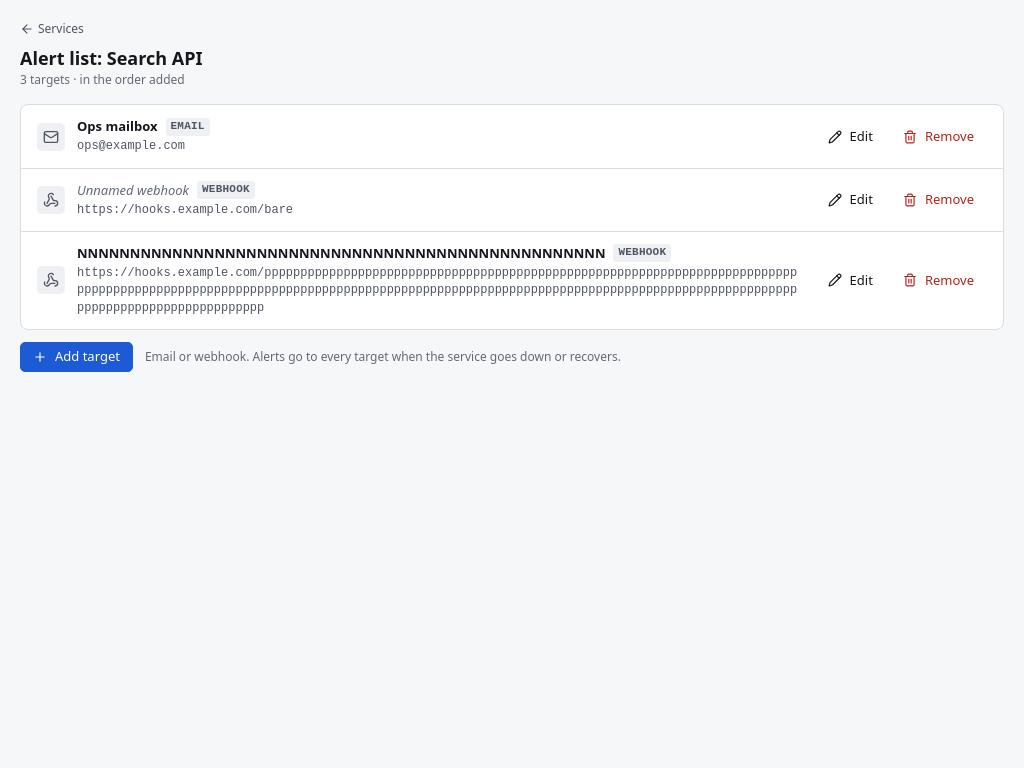
removing a target › after a failure › a 403 csrf_failed restores the row, keeps every row, toasts and focuses its Remove button
Check: the list named "Notification targets" is shown, box [20,104,1004,330]
Click the button with aria-label "Remove Ops mailbox".
click(938, 136)  # box [890,122,987,152]
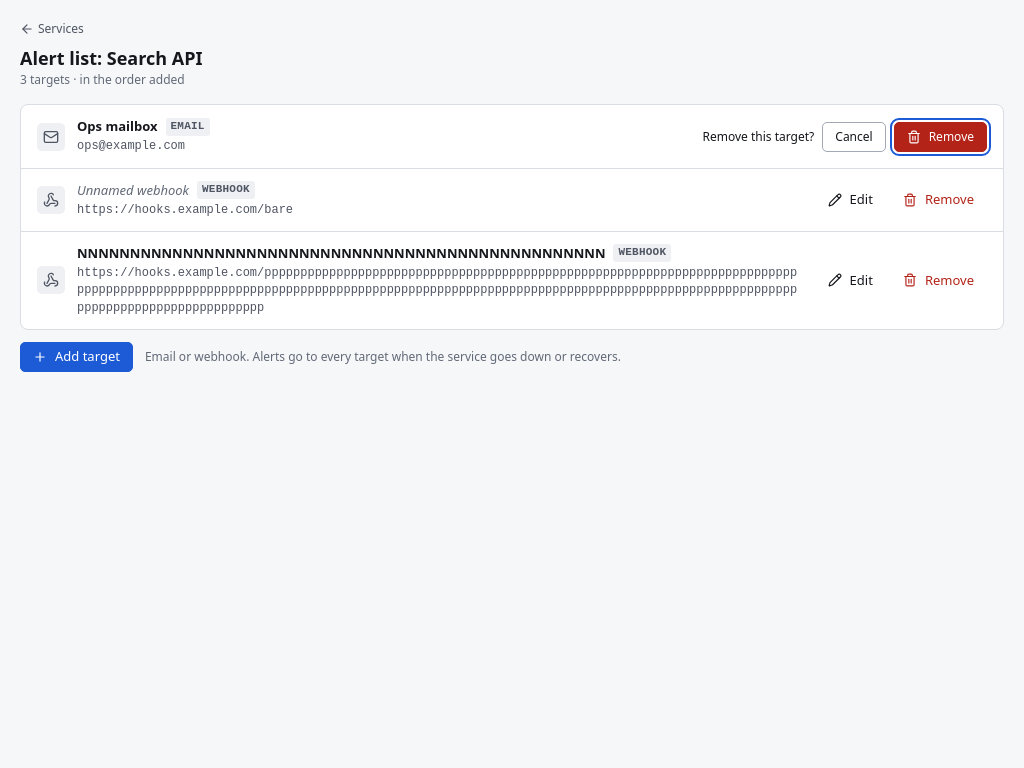
Click the button "Remove" in the row of "Remove this target?".
click(940, 136)  # box [894,122,987,152]
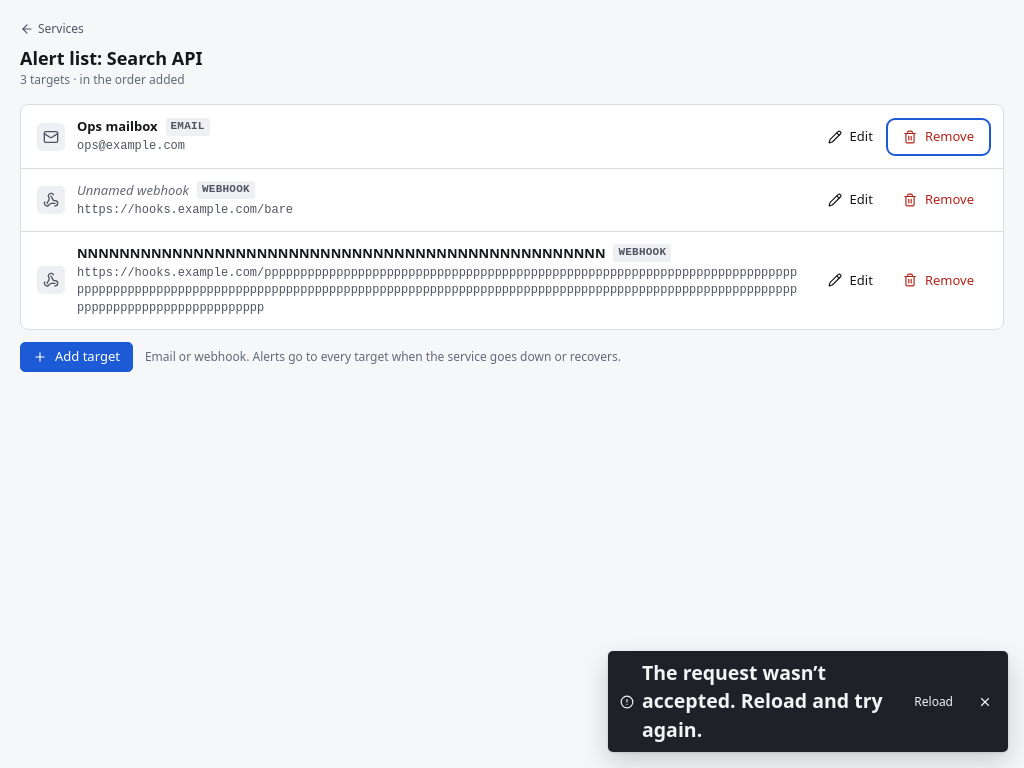
Check: the number of list items is 3, box [37,117,987,153]; [21,168,1003,231]; [21,231,1003,329]
Check: the heading "The request wasn’t accepted. Reload and try again." is shown, box [642,659,897,744]
